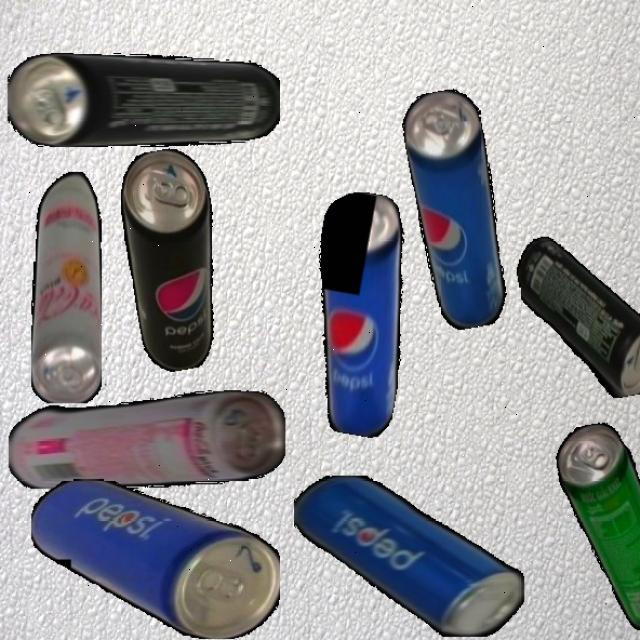debris: (30, 479, 280, 639), (294, 474, 524, 636), (289, 187, 429, 440), (398, 85, 517, 333), (111, 144, 238, 375), (8, 390, 286, 489), (8, 52, 280, 147), (512, 220, 640, 411), (551, 415, 640, 640), (30, 171, 102, 403)
